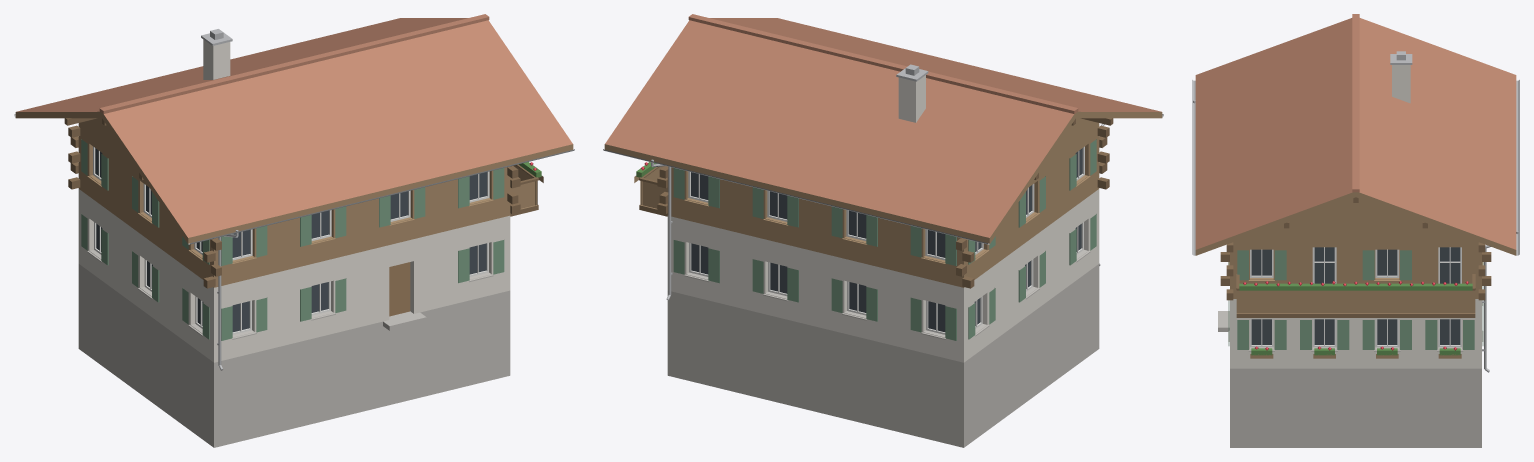
The model's file is chalet_2_m.glb.
3 views of the same model, side by side, from view 1: azimuth 30°, elevation 25°; view 2: azimuth 150°, elevation 25°; view 3: azimuth 270°, elevation 25° (orthographic). The views are drawn at different scales.
Visible parts, largest first — view 1: chalet_2_m; view 2: chalet_2_m; view 3: chalet_2_m.
Part boxes in pixels (x1=…): chalet_2_m: x1=14, y1=14, x2=574, y2=447; chalet_2_m: x1=603, y1=14, x2=1163, y2=447; chalet_2_m: x1=1192, y1=14, x2=1519, y2=447.
Size of the model in its own units: 15.64 by 12.62 by 12.35.
